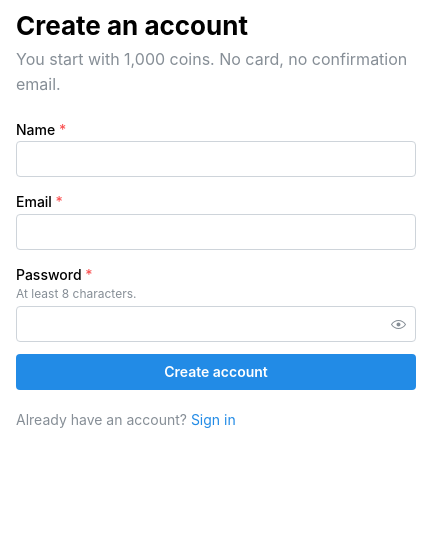
Test: SignupPage › shows why the account was refused and does not sign in
In the field labelled "Name *": (216,160) 16,142 -> 416,178, type "Ada"
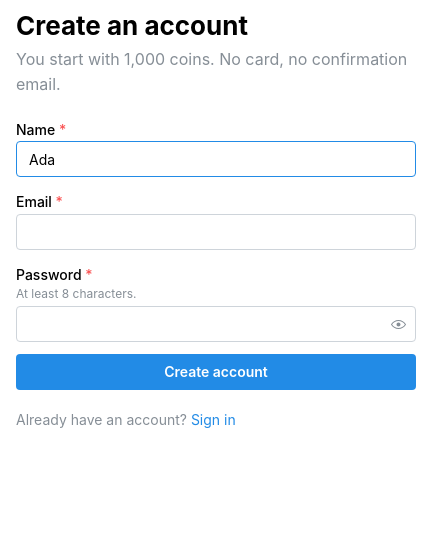
In the field labelled "Email *": (216,232) 16,214 -> 416,250, type "ada@example.com"
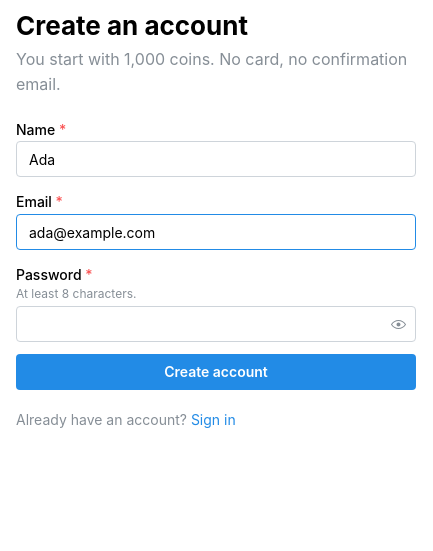
In the password field labelled "Password *": (216,324) 17,308 -> 415,342, type "correct horse"
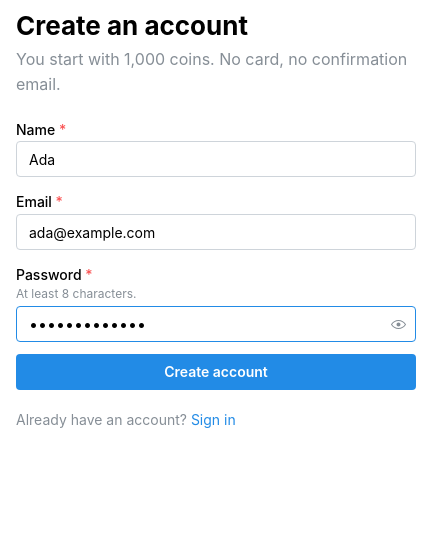
Click the button "Create account": (216,372) 16,354 -> 416,390
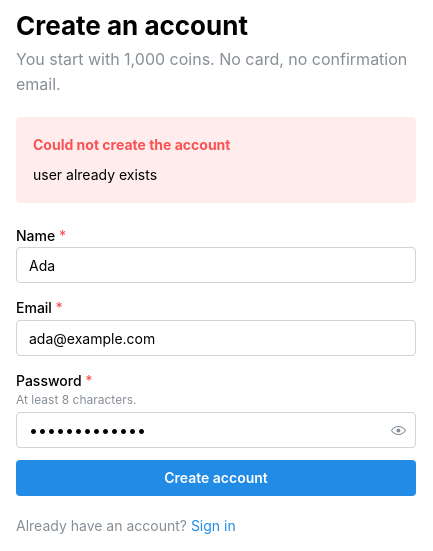
Expected: the text "user already exists" is shown, 33,166 -> 157,183
